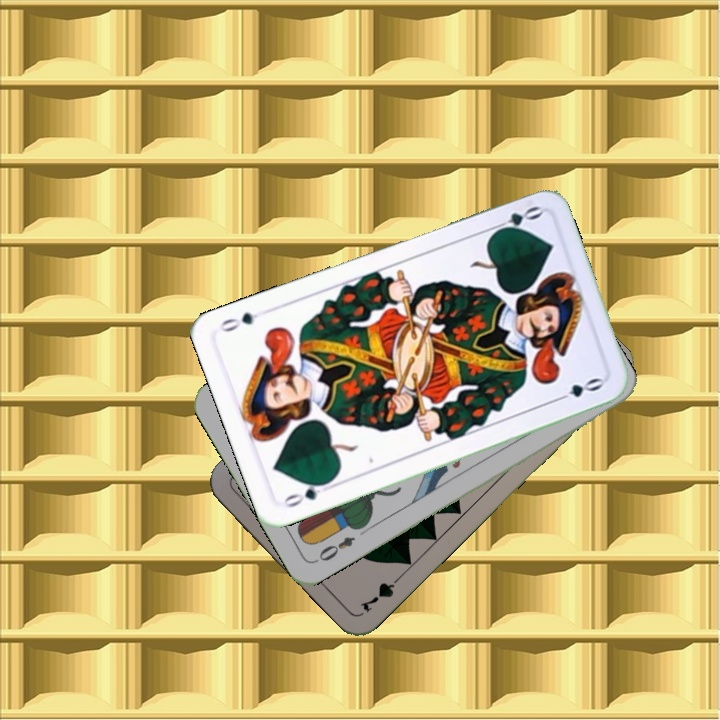EO: (311, 532, 358, 566)
G7: (356, 569, 406, 615)
GO: (486, 201, 544, 238), (278, 476, 336, 510)
